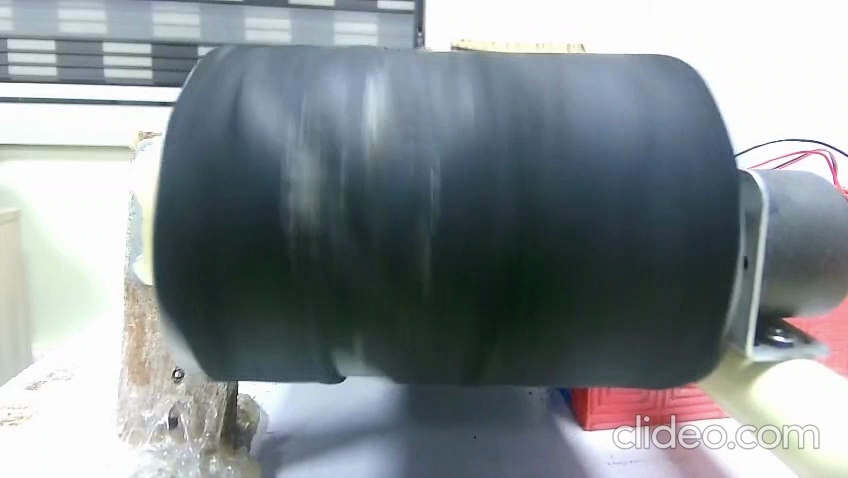hole: (316, 331, 413, 384)
